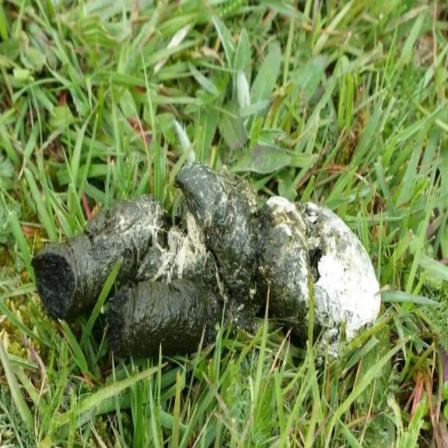dog-poop: (28, 145, 386, 369)
